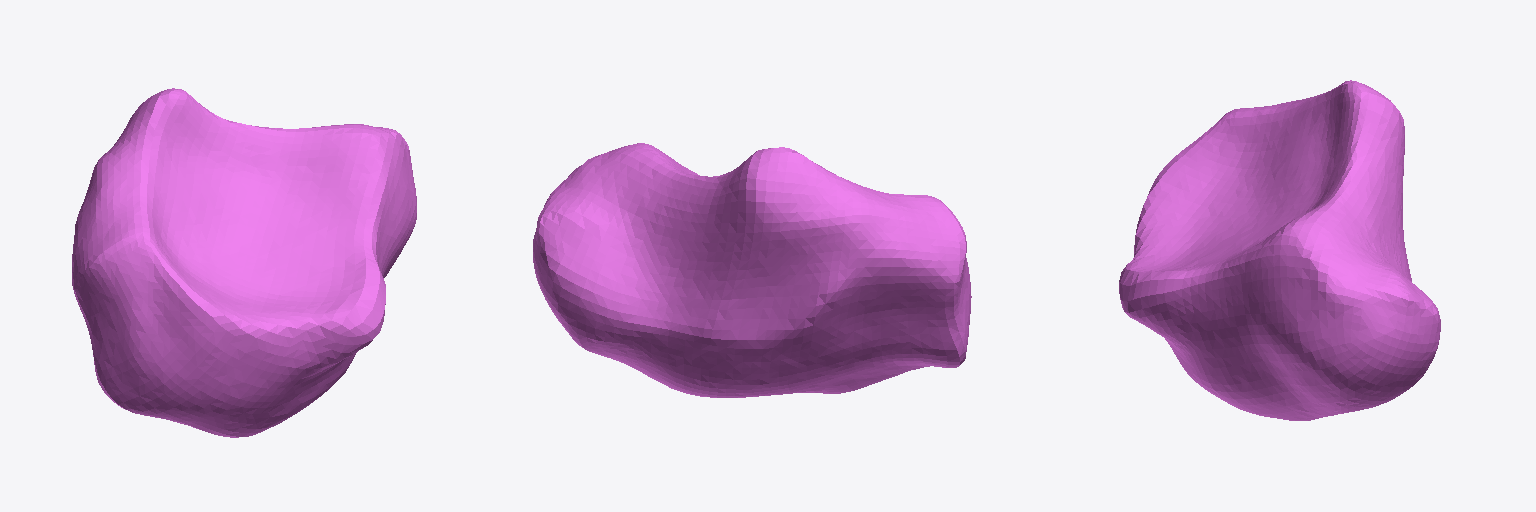
The model's file is Navicular.obj.
The picture shows the model from 3 angles: view 1: azimuth 30°, elevation 25°; view 2: azimuth 150°, elevation 25°; view 3: azimuth 270°, elevation 25°; orthographic projection.
Parts seen in each view (by area): view 1: Object_0Navicular; view 2: Object_0Navicular; view 3: Object_0Navicular.
Boxes of the visible parts, x1,y1,x2,y2 form: Object_0Navicular: [72, 88, 416, 437]; Object_0Navicular: [533, 143, 971, 397]; Object_0Navicular: [1119, 80, 1440, 420].
Bounding box in the file's own units: 44.34 × 33.53 × 33.07.